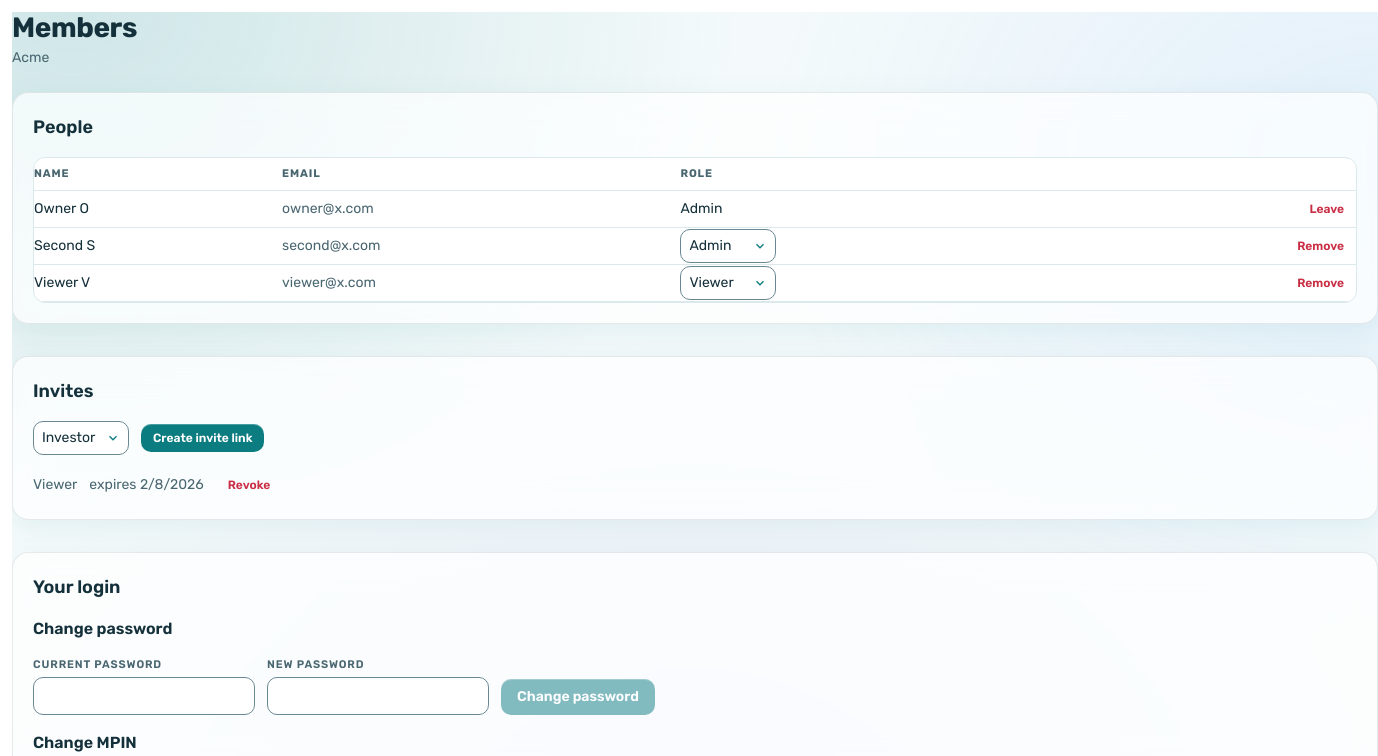
Test: shows the last-admin error from the server
The width and height of the screenshot is (1378, 756).
Select "Viewer" in the dropdown named "Role for second@x.com". click: x=728, y=246
box: [680,229,776,263]
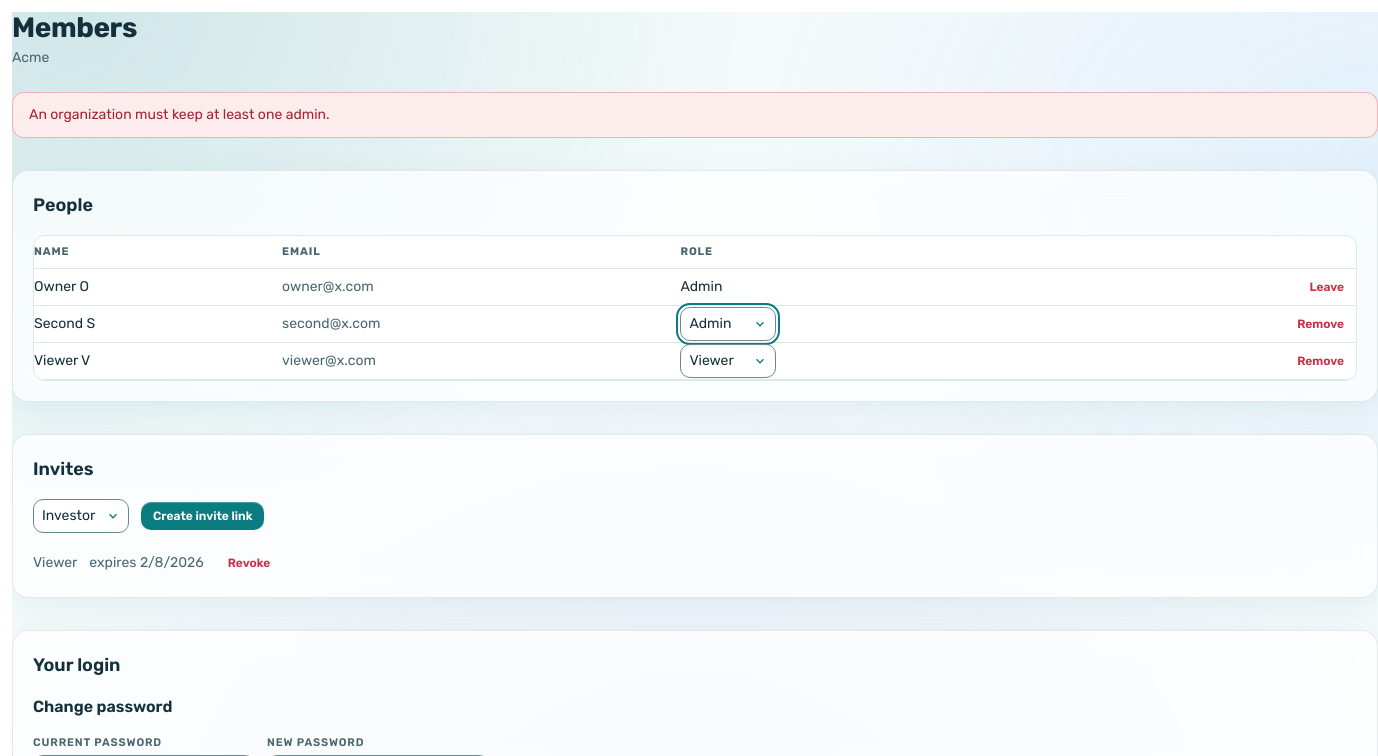
Expected: the text "An organization must keep at least one admin." is shown, [29,105,330,125]
